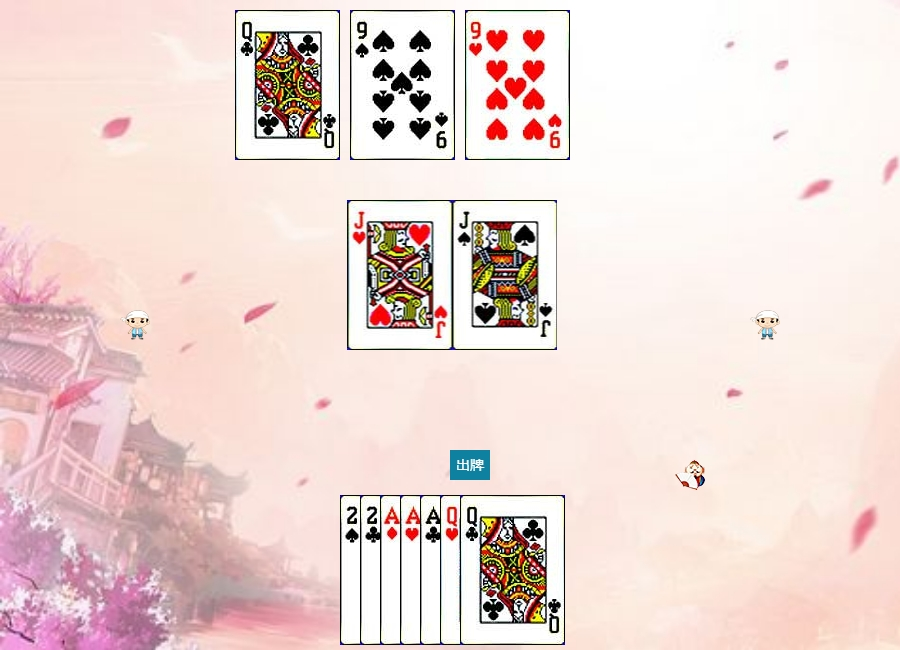11~3: (348, 200, 453, 350)
11~4: (453, 200, 558, 350)
12~2: (235, 10, 340, 160), (460, 495, 565, 645)
12~3: (440, 495, 545, 645)
14~1: (380, 495, 485, 645)
14~2: (420, 495, 525, 645)
14~3: (400, 495, 505, 645)
15~2: (360, 495, 465, 645)
15~4: (340, 495, 445, 645)
9~3: (465, 10, 570, 160)
9~4: (350, 10, 455, 160)
